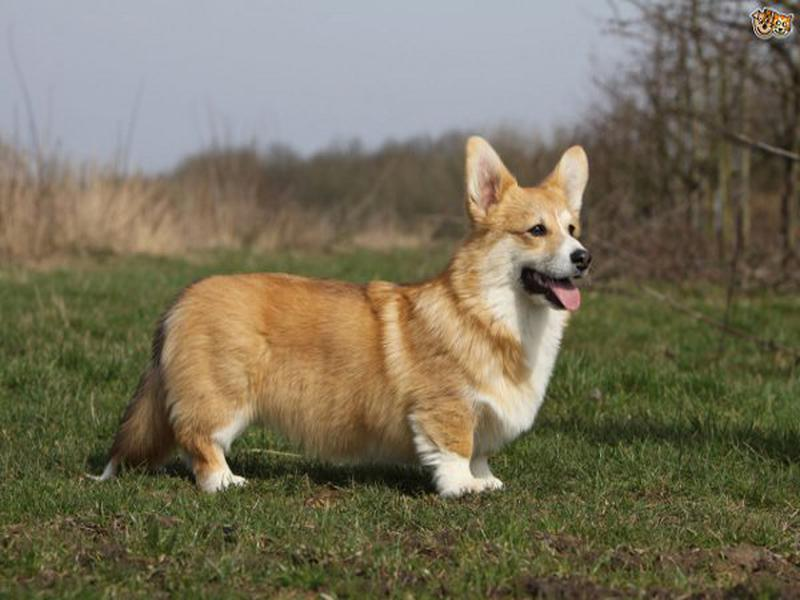corgi: (463, 136, 592, 318)
